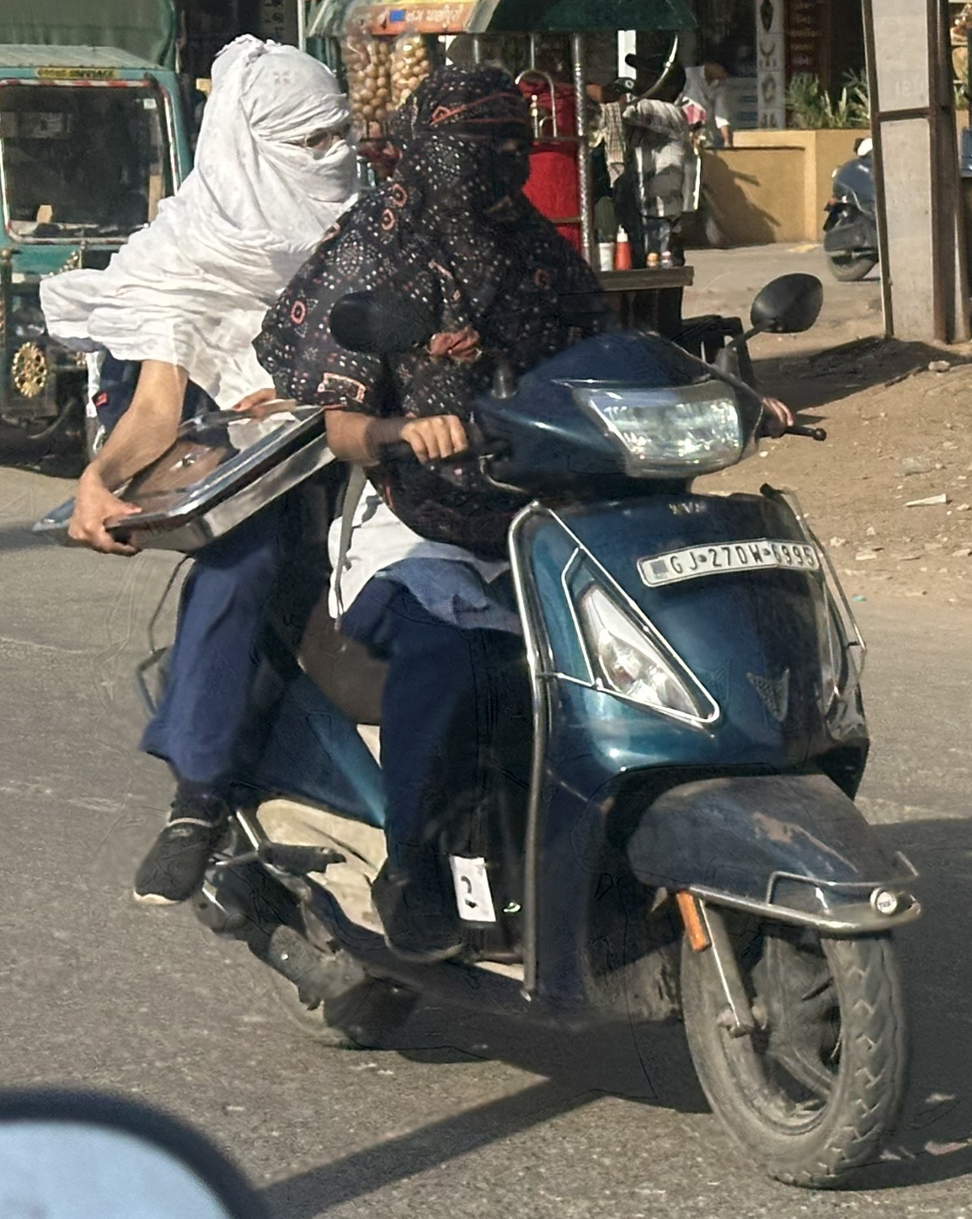BikeWithRider: (33, 24, 939, 1195)
NoHelmet: (186, 28, 369, 217), (388, 56, 549, 219)
